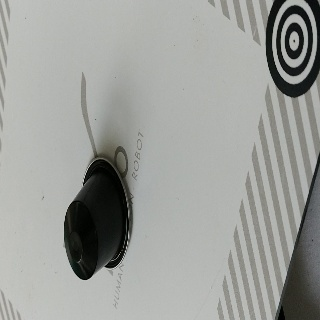capsule_10: (63, 155, 132, 281)
